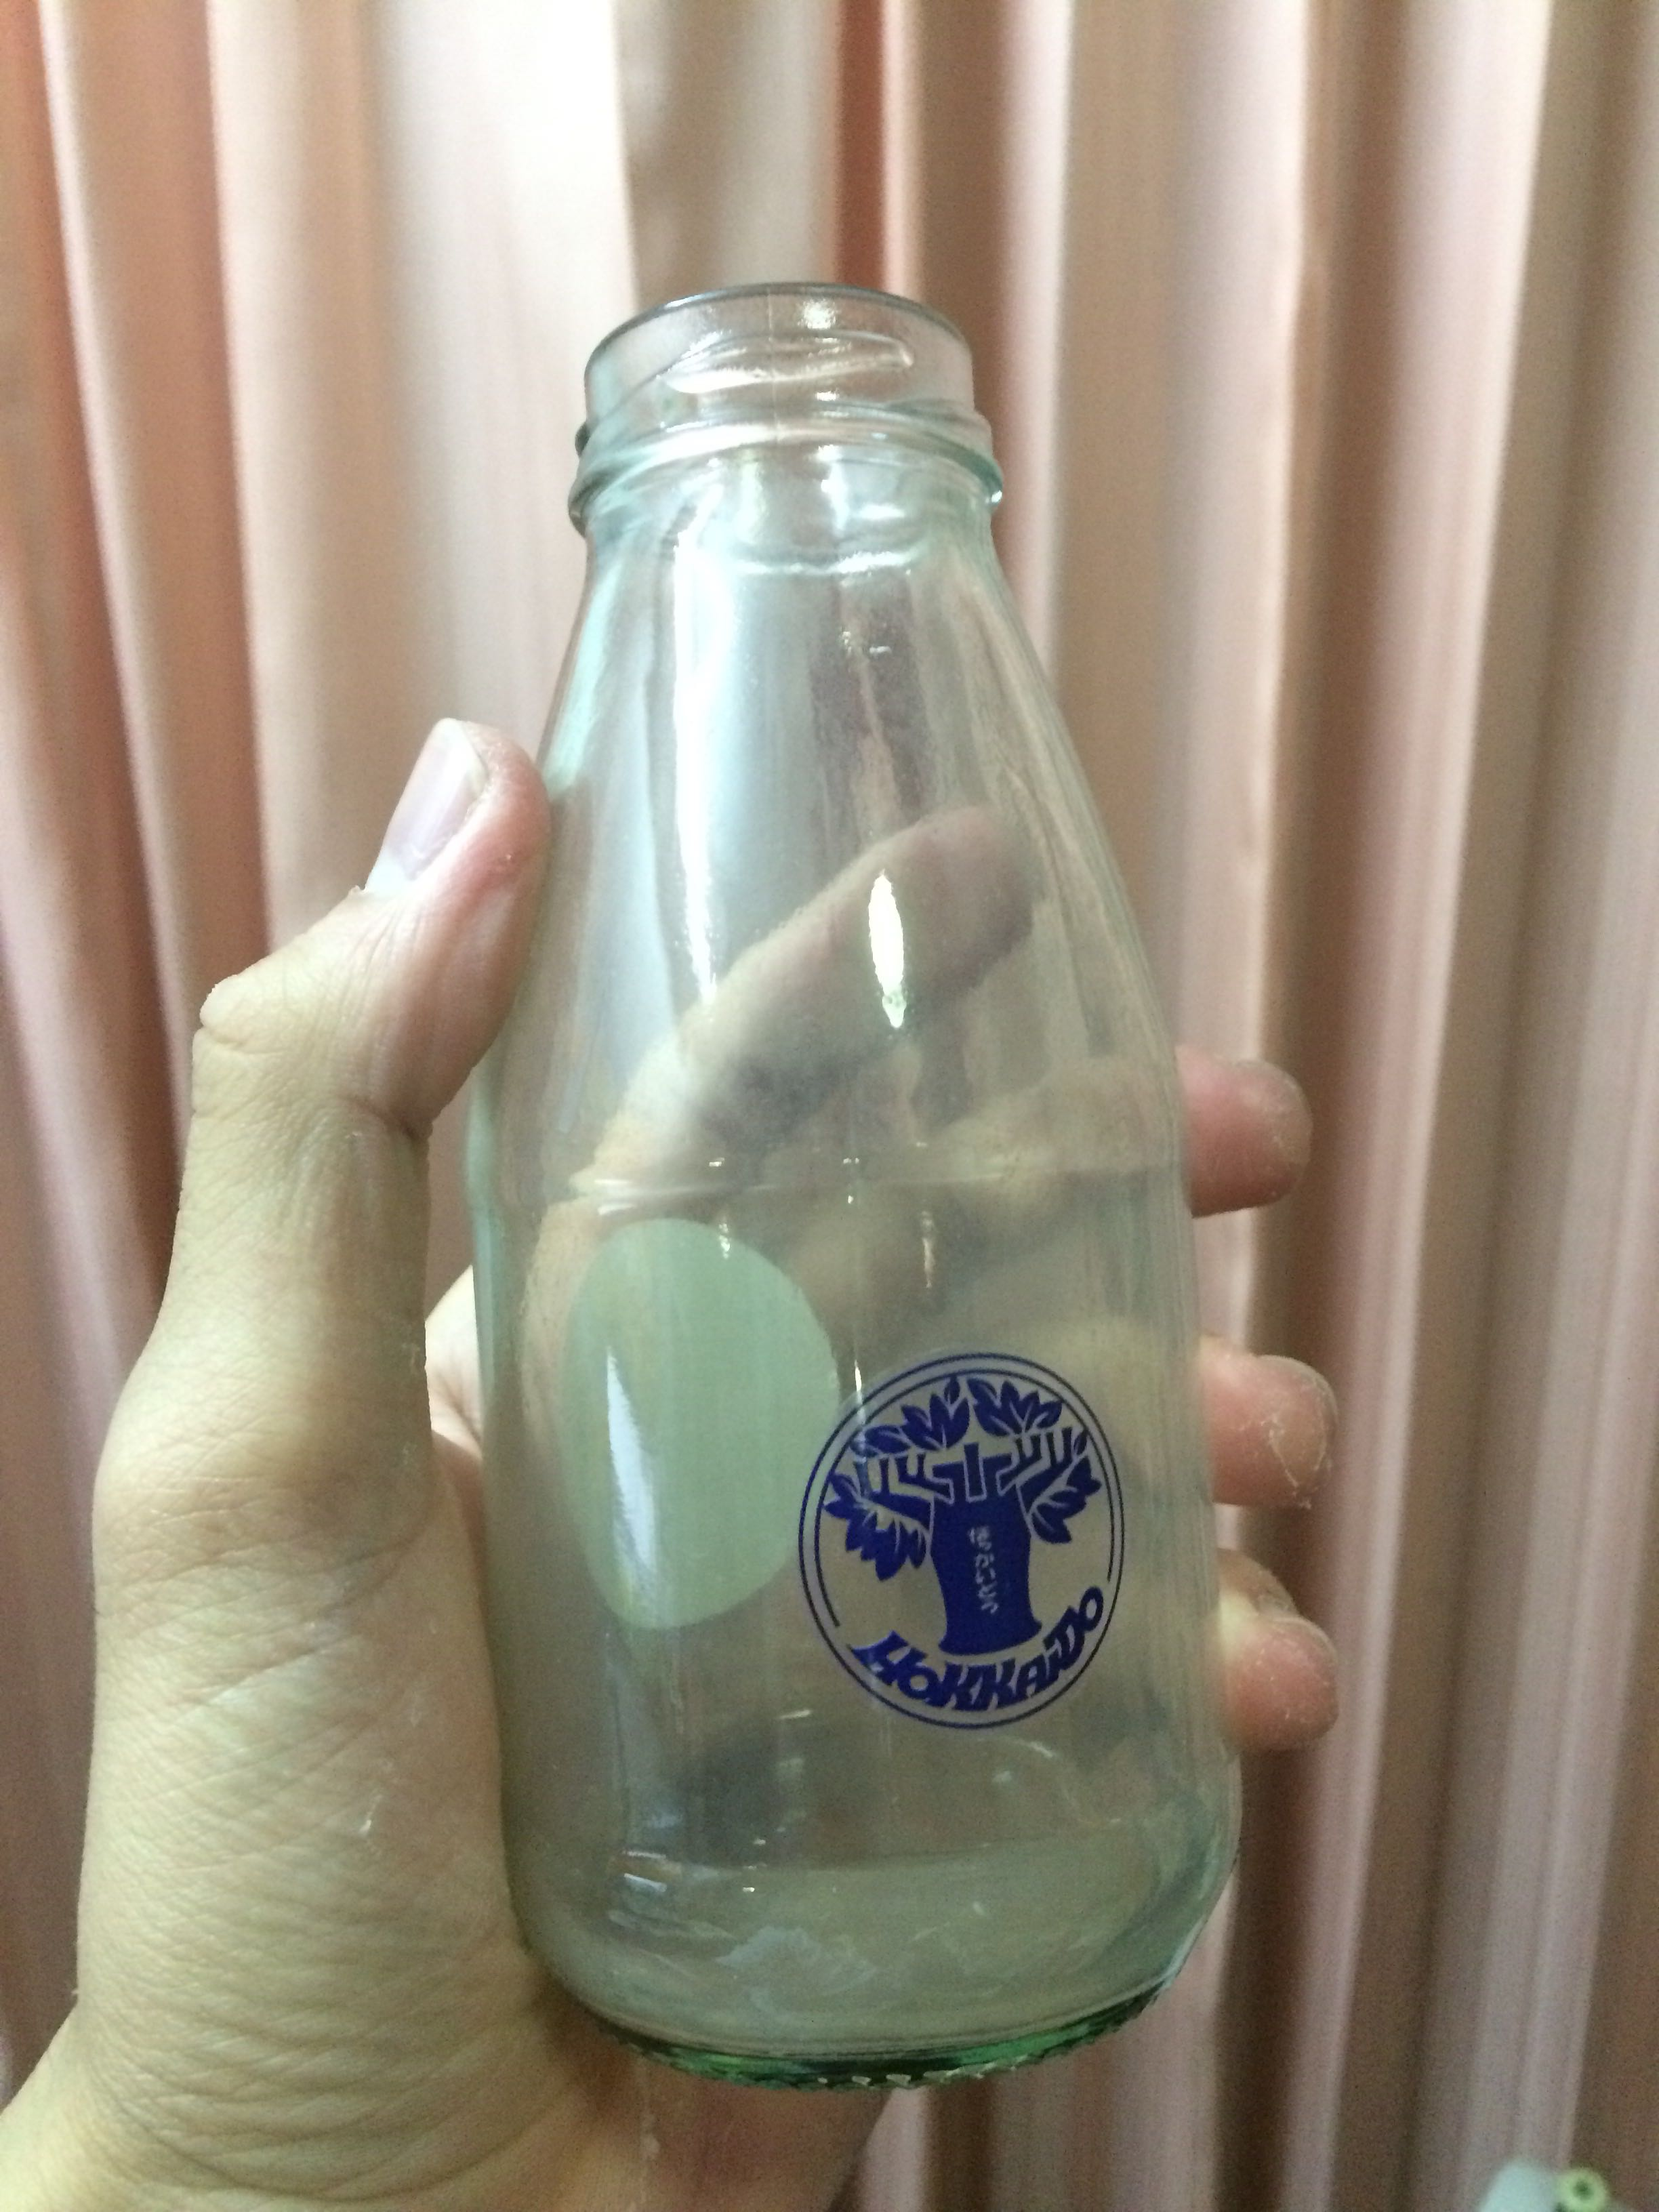glass_bottle: (450, 263, 1251, 2123)
